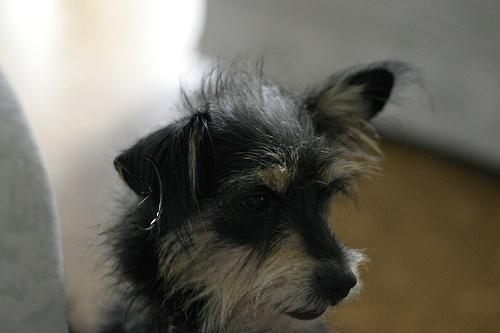tampered: (133, 156, 162, 230)
